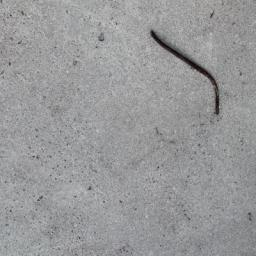FOD: (150, 31, 224, 119)
